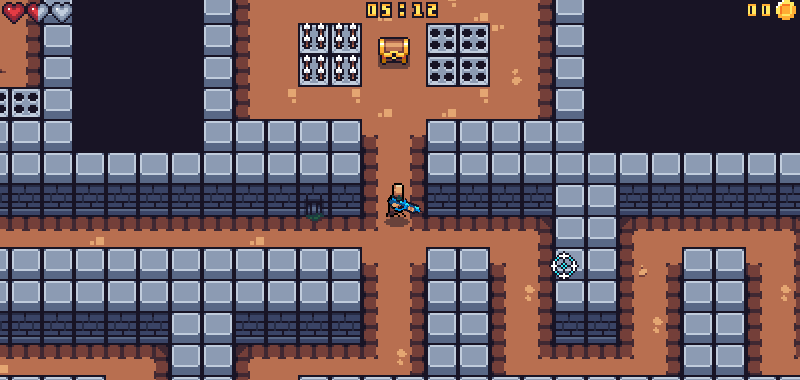trap_off: (426, 25, 489, 86), (1, 88, 40, 117)
trap_on: (297, 23, 362, 84)
treasury_close: (375, 34, 412, 69)
